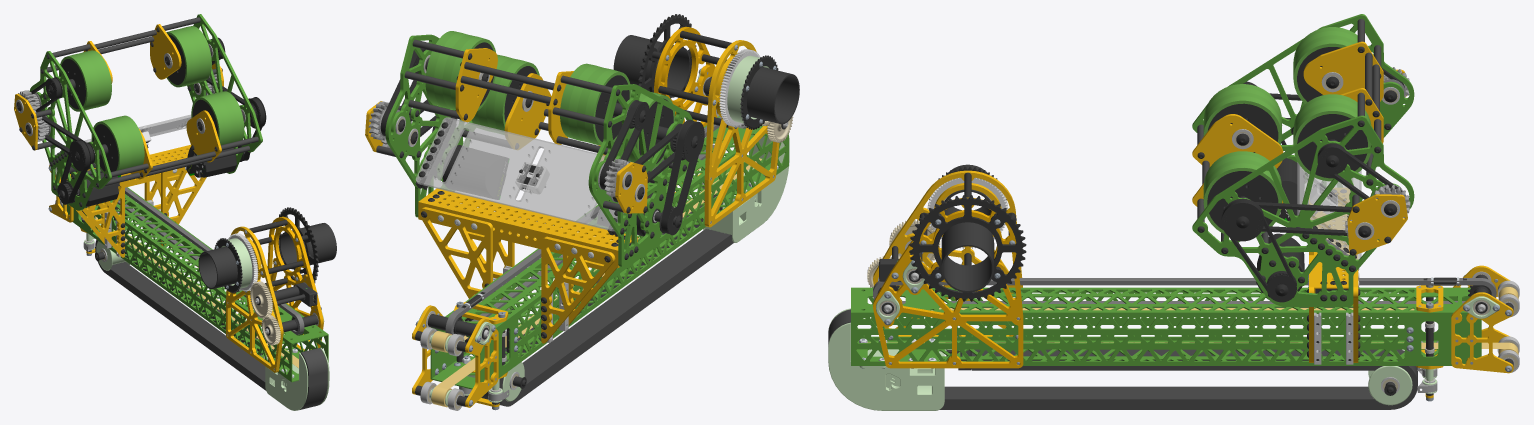
3 renders of one model, left to right at view 1: azimuth 30°, elevation 25°; view 2: azimuth 150°, elevation 25°; view 3: azimuth 270°, elevation 25°, orthographic. The views are drawn at different scales.
Visible parts, largest first — view 1: Tube 3"x3"x32", 4" Stealth Wheel (35A, 1/2" Hex Bore) (×8), 4409T253_Lay-in Snap-Together Open Cable-Hose Carrier, O-LauncherA01_0187_6061AL_2_2026 (×2), O-LauncherA05_0250_6061AL_4_2026 (×4), O-AMA08_0250_6061AL_1_2026, O-AMA06_0250_6061AL_1_2026, O-AMA16_5900_PLA_1_2026, Kraken X60 Brushless Motor (×2), 1/2" Hex Bore Custom Spacer (2.675" OD,2.625" L), 257L #25 Chain, 1/2" Hex Bore Custom Spacer (2.675" OD,3.063" L) (+19 smaller); view 2: O-LauncherA06_0250_PC_1_2026, Tube 3"x3"x32", O-LauncherA01_0187_6061AL_2_2026 (×2), 4" Stealth Wheel (35A, 1/2" Hex Bore) (×7), 4409T253_Lay-in Snap-Together Open Cable-Hose Carrier, O-LauncherA05_0250_6061AL_4_2026 (×4), Tube 2"x1"x12", O-AMA08_0250_6061AL_1_2026, Kraken X60 Brushless Motor, O-AMA16_5900_PLA_1_2026, 1/2" Hex Bore Custom Spacer (2.675" OD,2.625" L), O-LauncherA04_0187_6061AL_2_2026 (×2) (+24 smaller); view 3: Tube 3"x3"x32", 4409T253_Lay-in Snap-Together Open Cable-Hose Carrier, O-LauncherA01_0187_6061AL_2_2026 (×2), 4" Stealth Wheel (35A, 1/2" Hex Bore) (×7), O-AMA06_0250_6061AL_1_2026, O-AMA16_5900_PLA_1_2026, 48t Aluminum Sprocket (#35, SplineXL Bore), 257L #25 Chain, O-AMA08_0250_6061AL_1_2026, O-AMA09_0188_6061AL_1_2026 (×2), 1/2" Hex Bore Custom Spacer (2.675" OD,3.063" L), O-LauncherA04_0187_6061AL_2_2026 (+14 smaller).
Boxes of the visible parts, x1,y1,x2,y2 form: Tube 3"x3"x32": (62,187,328,382); 4" Stealth Wheel (35A, 1/2" Hex Bore) (×8): (59,26,244,172); 4409T253_Lay-in Snap-Together Open Cable-Hose Carrier: (95,239,327,409); O-LauncherA01_0187_6061AL_2_2026 (×2): (29,14,262,210); O-LauncherA05_0250_6061AL_4_2026 (×4): (76,155,206,257); O-AMA08_0250_6061AL_1_2026: (226,226,283,372); O-AMA06_0250_6061AL_1_2026: (267,216,323,350); O-AMA16_5900_PLA_1_2026: (265,347,329,410); Kraken X60 Brushless Motor (×2): (76,146,236,206); 1/2" Hex Bore Custom Spacer (2.675" OD,2.625" L): (198,246,237,289); 257L #25 Chain: (94,164,304,334); 1/2" Hex Bore Custom Spacer (2.675" OD,3.063" L): (280,223,336,269); O-LauncherA06_0250_PC_1_2026: (415,117,633,231); Tube 3"x3"x32": (430,116,788,389); O-LauncherA01_0187_6061AL_2_2026 (×2): (385,34,693,267); 4" Stealth Wheel (35A, 1/2" Hex Bore) (×7): (425,31,675,168); 4409T253_Lay-in Snap-Together Open Cable-Hose Carrier: (481,205,733,406); O-LauncherA05_0250_6061AL_4_2026 (×4): (419,201,616,343); Tube 2"x1"x12": (418,188,637,267); O-AMA08_0250_6061AL_1_2026: (704,40,779,227); Kraken X60 Brushless Motor: (442,145,508,199); O-AMA16_5900_PLA_1_2026: (702,134,789,242); 1/2" Hex Bore Custom Spacer (2.675" OD,2.625" L): (747,67,799,124); O-LauncherA04_0187_6061AL_2_2026 (×2): (455,48,573,144); Tube 3"x3"x32": (851,287,1481,365); 4409T253_Lay-in Snap-Together Open Cable-Hose Carrier: (828,309,1417,409); O-LauncherA01_0187_6061AL_2_2026 (×2): (1192,14,1414,306); 4" Stealth Wheel (35A, 1/2" Hex Bore) (×7): (1203,35,1371,234); O-AMA06_0250_6061AL_1_2026: (873,197,1023,368); O-AMA16_5900_PLA_1_2026: (828,308,944,410); 48t Aluminum Sprocket (#35, SplineXL Bore): (909,195,1026,301); 257L #25 Chain: (873,278,1496,307); O-AMA08_0250_6061AL_1_2026: (873,170,1022,336); O-AMA09_0188_6061AL_1_2026 (×2): (1451,265,1513,373); 1/2" Hex Bore Custom Spacer (2.675" OD,3.063" L): (941,222,994,292); O-LauncherA04_0187_6061AL_2_2026: (1303,41,1383,101).
Bounding box in the file's own units: 0.3966 × 0.4809 × 0.8912.
